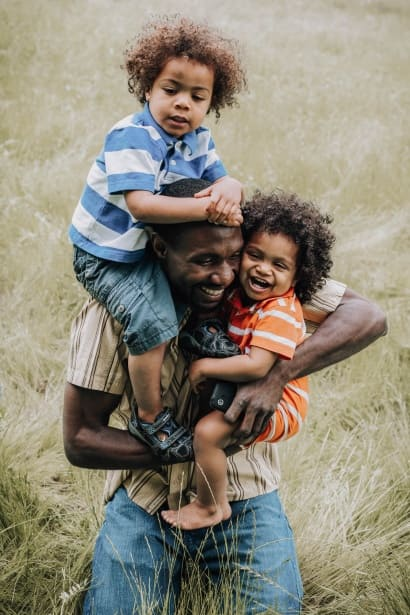person: (64, 201, 310, 615), (71, 22, 246, 423), (164, 194, 332, 531)
